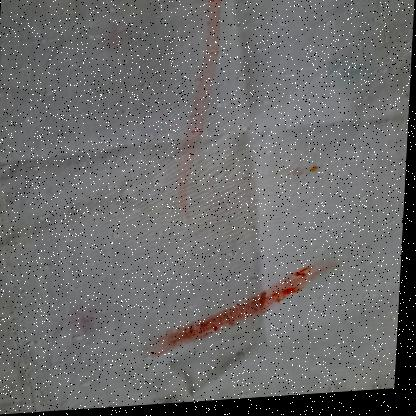spot: (150, 252, 343, 362), (173, 0, 234, 220), (322, 54, 362, 86), (78, 311, 104, 341), (290, 166, 323, 181)
